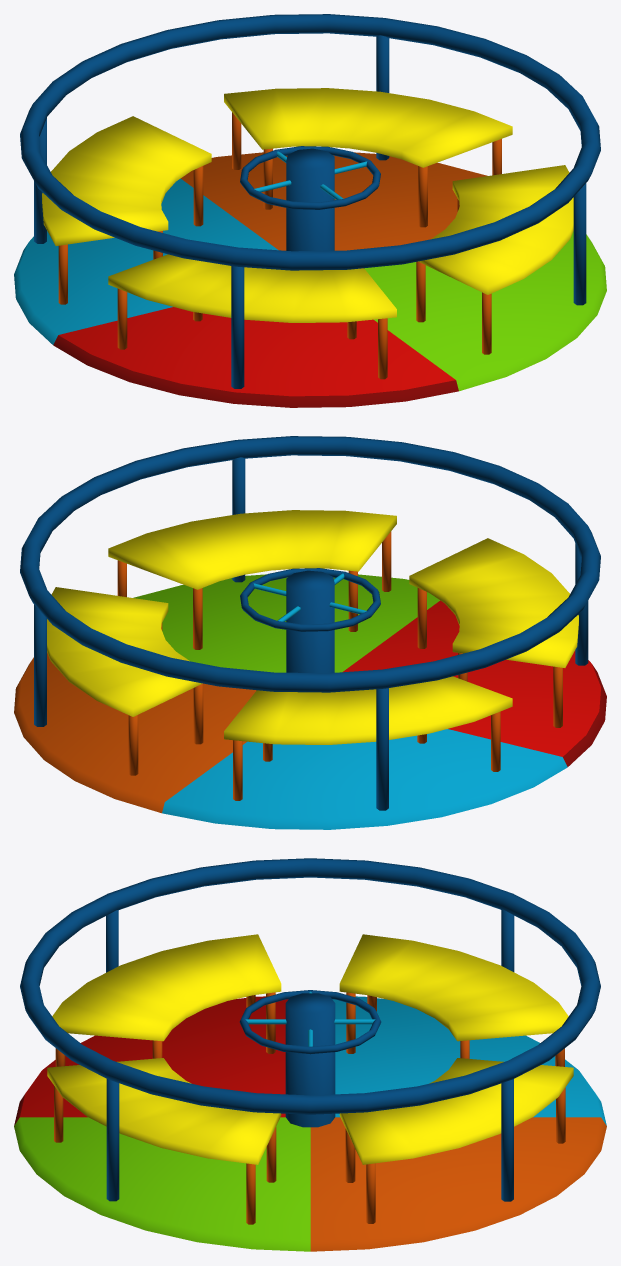
File: Merry Go Round.fbx
The picture shows the model from 3 angles, top to bottom: view 1: azimuth 30°, elevation 25°; view 2: azimuth 150°, elevation 25°; view 3: azimuth 270°, elevation 25°; orthographic projection.
Parts seen in each view (by area): view 1: Circle.001; view 2: Circle.001; view 3: Circle.001.
Boxes of the visible parts, bbox=[...] form: Circle.001: bbox=[14, 14, 606, 407]; Circle.001: bbox=[14, 436, 606, 829]; Circle.001: bbox=[14, 858, 606, 1251].
Size of the model in its own units: 297 by 87.16 by 297.
1 material, 1 textured.
